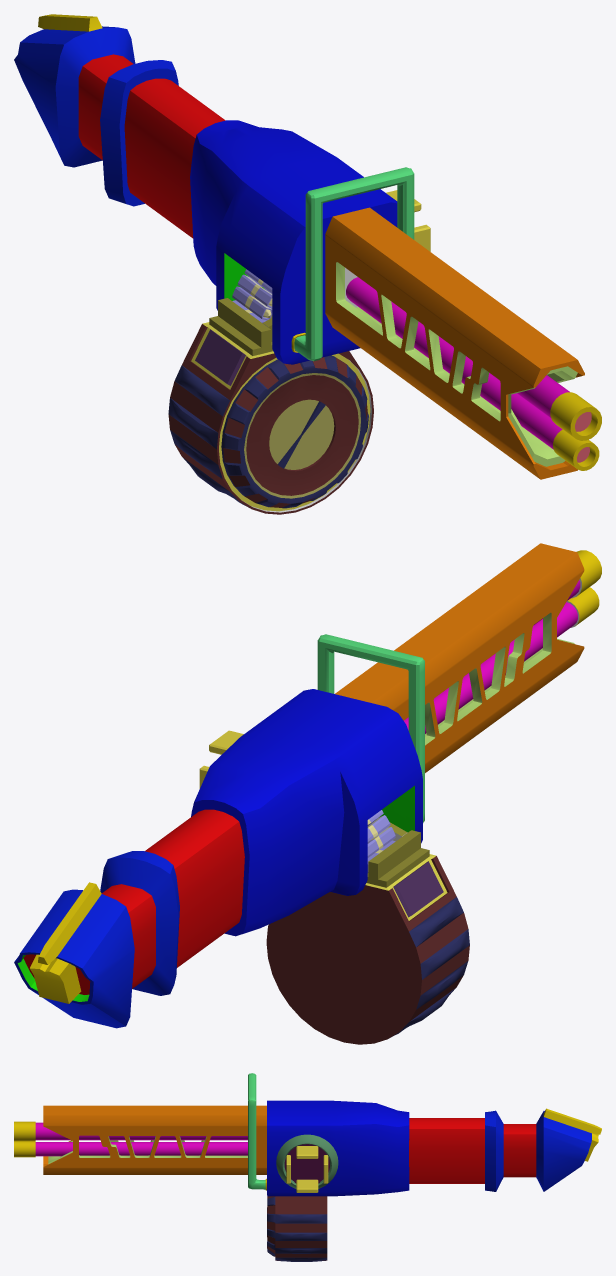
Rendered from Starting Machine Gun.fbx.
The picture shows the model from 3 angles, top to bottom: view 1: azimuth 30°, elevation 25°; view 2: azimuth 150°, elevation 25°; view 3: azimuth 270°, elevation 25°; orthographic projection. The views are drawn at different scales.
Parts seen in each view (by area): view 1: Gun Joined; view 2: Gun Joined; view 3: Gun Joined.
Part boxes in pixels (x1,y1,x2,y2): Gun Joined: [14, 14, 601, 514]; Gun Joined: [14, 543, 601, 1044]; Gun Joined: [14, 1073, 601, 1261].
Size of the model in its own units: 25.51 by 36.26 by 105.
